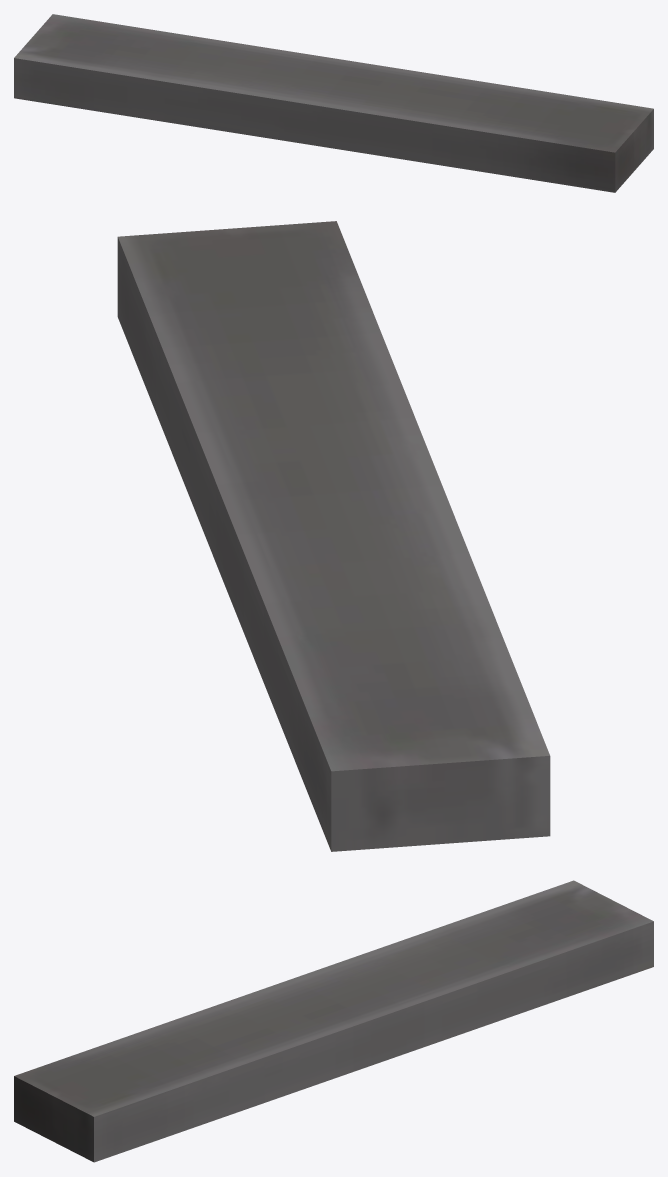
File: rear_support__rear_strut_0.glb
The picture shows the model from 3 angles, top to bottom: view 1: azimuth 30°, elevation 25°; view 2: azimuth 150°, elevation 25°; view 3: azimuth 270°, elevation 25°; orthographic projection. The views are drawn at different scales.
Parts seen in each view (by area): view 1: world; view 2: world; view 3: world.
Part boxes in pixels (x1=…): world: x1=14, y1=14, x2=653, y2=192; world: x1=117, y1=221, x2=550, y2=851; world: x1=14, y1=880, x2=653, y2=1162.
Size of the model in its own units: 0.2003 by 0.018 by 0.2291.
Materials: 1 (1 with a texture image).
